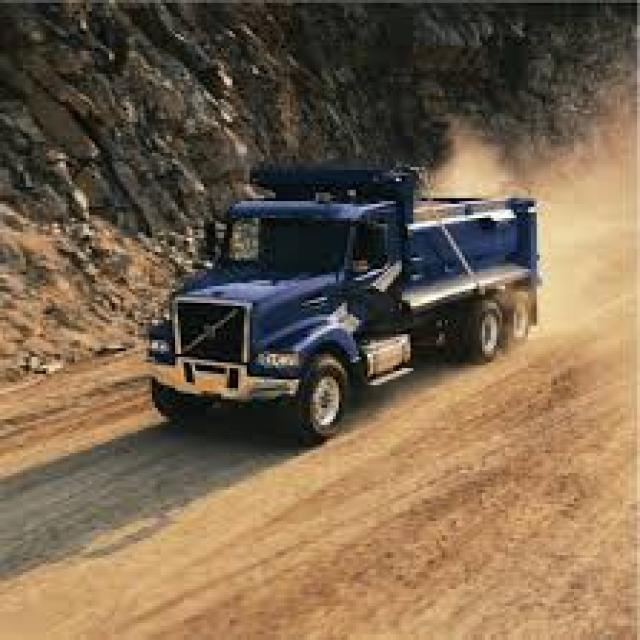dump_truck: (155, 165, 541, 442)
